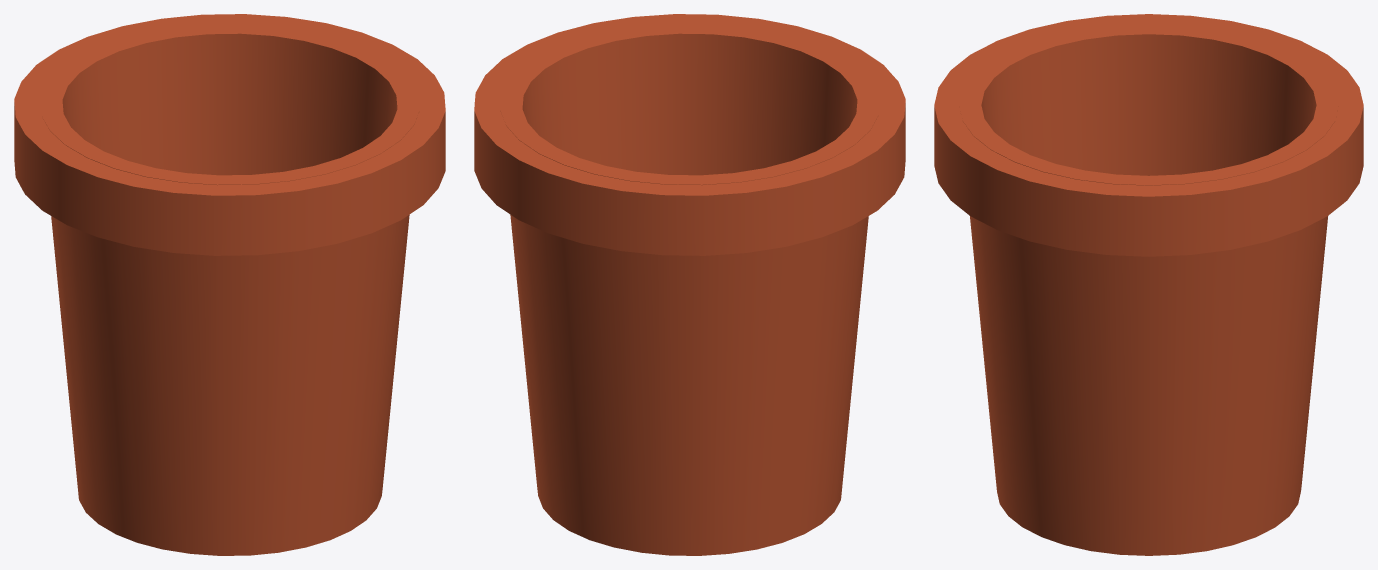
File: pot-draco.gltf
The picture shows the model from 3 angles, left to right: view 1: azimuth 30°, elevation 25°; view 2: azimuth 150°, elevation 25°; view 3: azimuth 270°, elevation 25°; orthographic projection.
Visible parts, largest first — view 1: 화분_몸통, 화분_데코; view 2: 화분_몸통, 화분_데코; view 3: 화분_몸통, 화분_데코.
Part boxes in pixels (<box>): 화분_몸통: <box>40,24,419,555</box>; 화분_데코: <box>14,14,445,255</box>; 화분_몸통: <box>500,24,879,555</box>; 화분_데코: <box>474,14,905,255</box>; 화분_몸통: <box>959,24,1338,555</box>; 화분_데코: <box>934,14,1363,256</box>.
Bounding box in the file's own units: 2.28 × 2.24 × 2.26.
2 materials, 2 textured.
